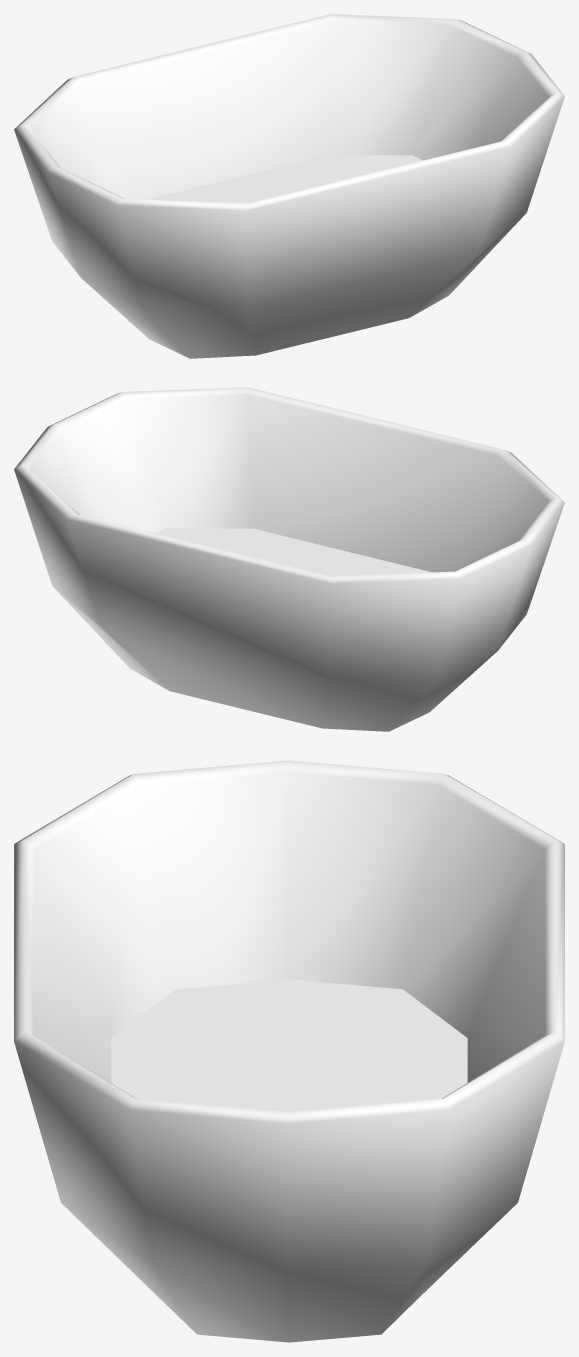
The model's file is CashewBowl.FBX.
3 views of the same model, one above another, from view 1: azimuth 30°, elevation 25°; view 2: azimuth 150°, elevation 25°; view 3: azimuth 270°, elevation 25° (orthographic). The views are drawn at different scales.
Visible parts, largest first — view 1: Cylinder218; view 2: Cylinder218; view 3: Cylinder218.
Boxes of the visible parts, x1,y1,x2,y2 form: Cylinder218: (14, 14, 564, 358); Cylinder218: (14, 387, 564, 731); Cylinder218: (14, 760, 564, 1342).
Size of the model in its own units: 4.34 by 1.68 by 2.79.
Materials: 1 (1 with a texture image).
